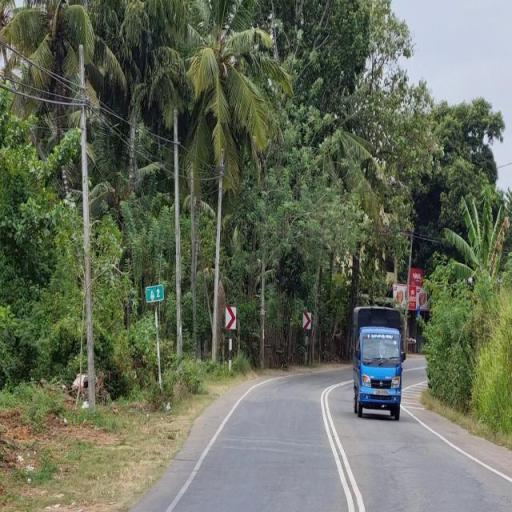double_white_line: (321, 377, 369, 512)
